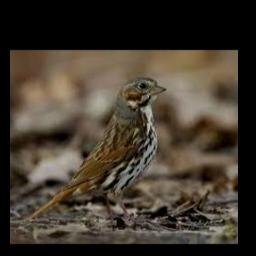Sparrow: (28, 76, 168, 220)
